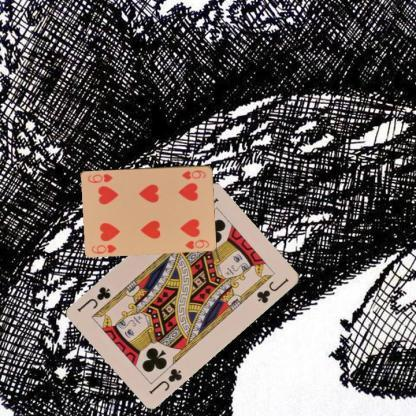6h: (89, 241, 118, 255), (179, 168, 207, 180)
Jc: (146, 365, 183, 395)
